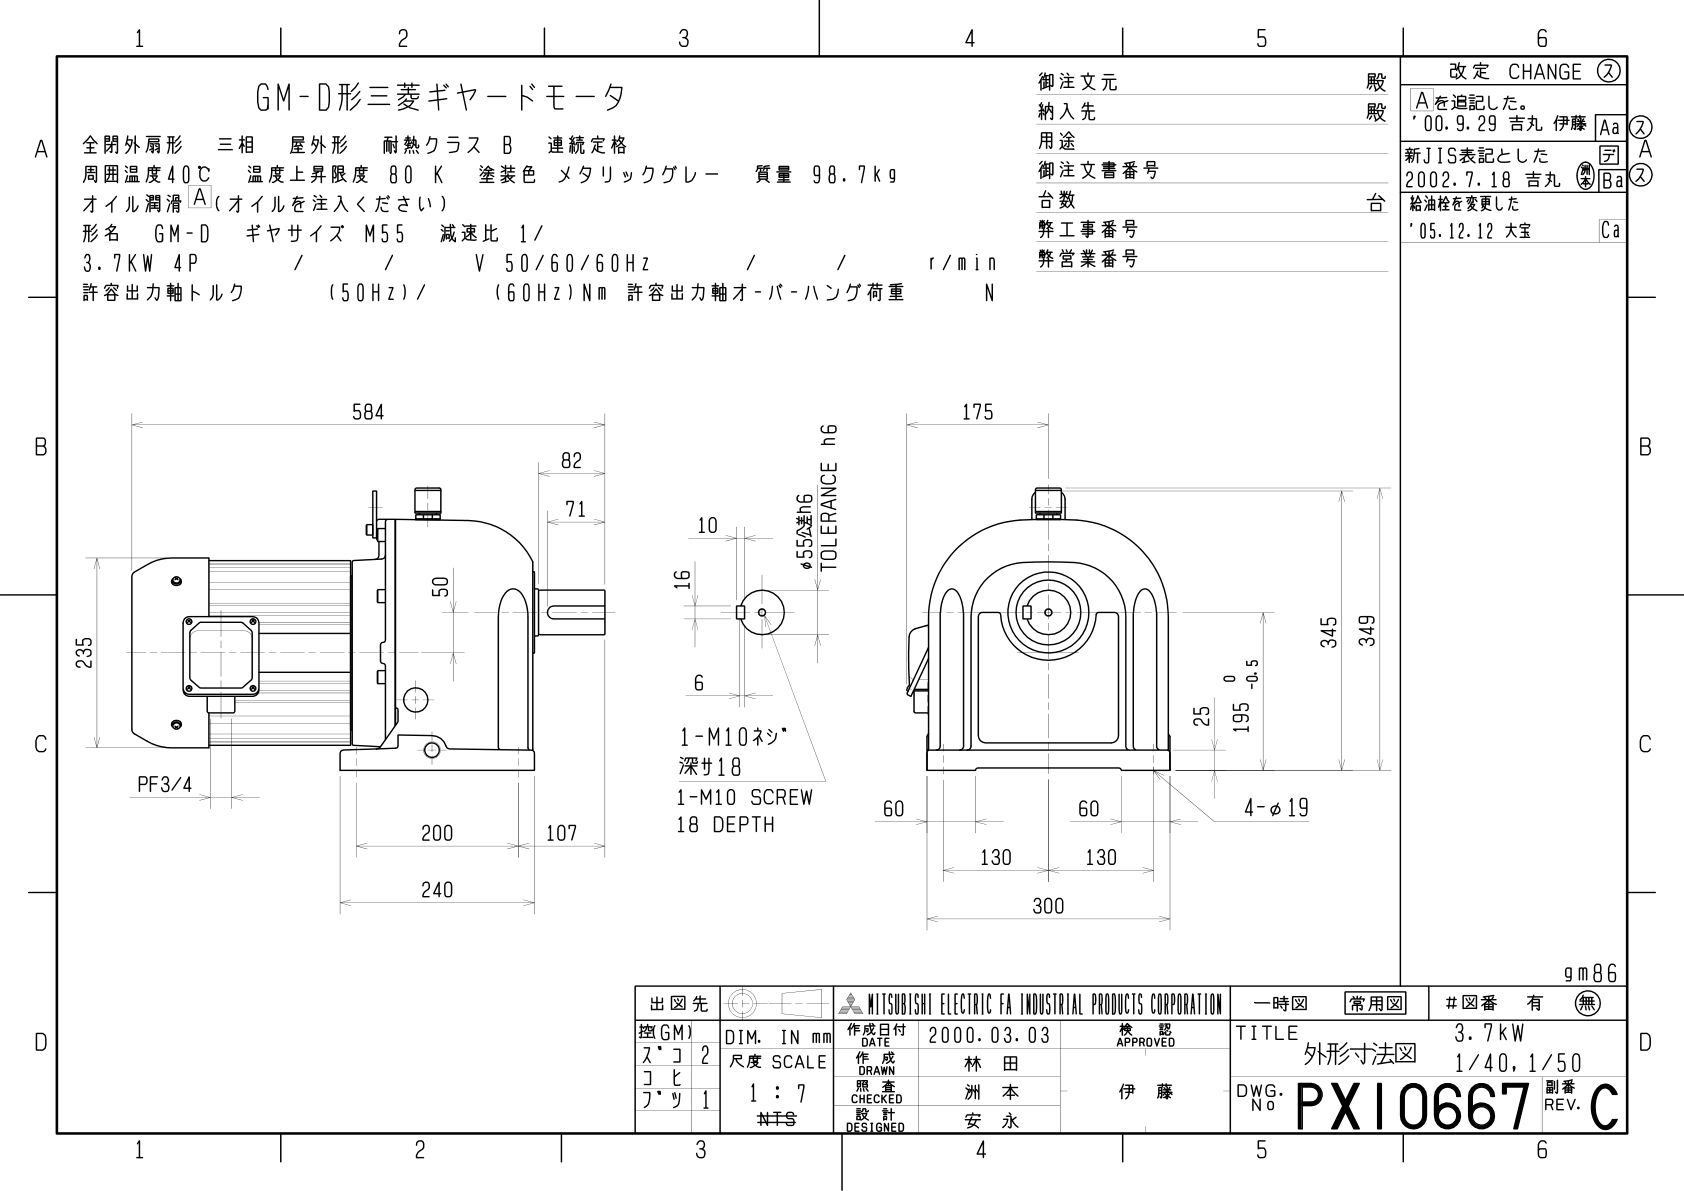GM_D_屋外＿三相_脚: (70, 369, 1393, 959)
